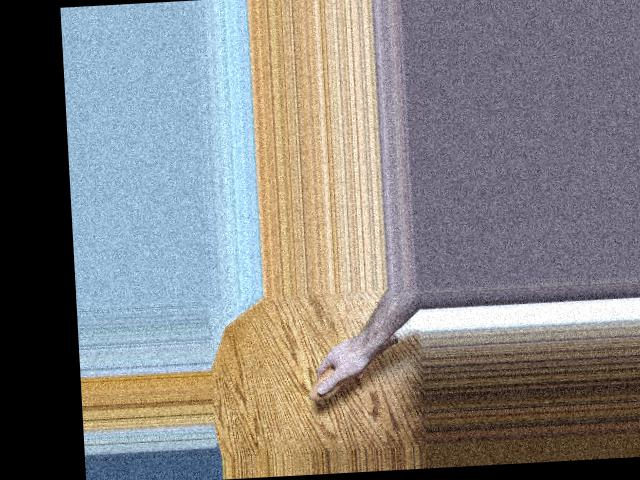sweet_potato: (304, 329, 404, 400)
